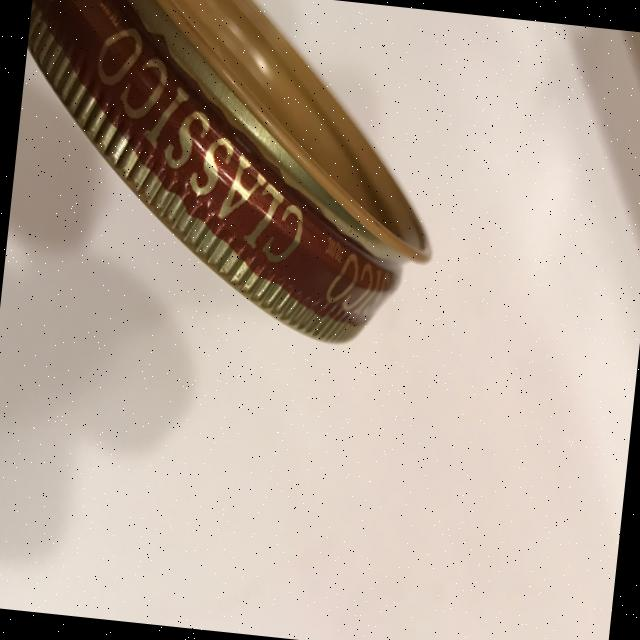metal: (0, 0, 457, 354)
